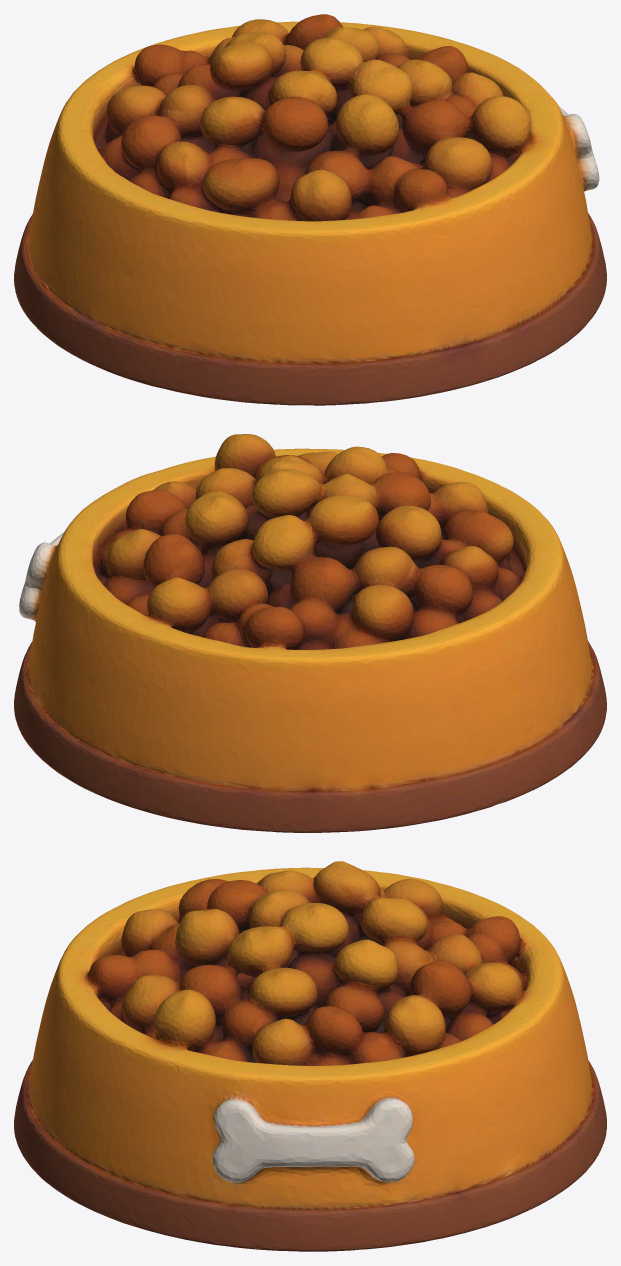
File: bowl_food_5.glb
3 views of the same model, one above another, from view 1: azimuth 30°, elevation 25°; view 2: azimuth 150°, elevation 25°; view 3: azimuth 270°, elevation 25° (orthographic).
Parts seen in each view (by area): view 1: tripo_node_acb6e2b7-431e-4384-a9d0-5594e0763c36; view 2: tripo_node_acb6e2b7-431e-4384-a9d0-5594e0763c36; view 3: tripo_node_acb6e2b7-431e-4384-a9d0-5594e0763c36.
Boxes of the visible parts, left/top/right/bottom form: tripo_node_acb6e2b7-431e-4384-a9d0-5594e0763c36: left=14, top=14, right=606, bottom=405; tripo_node_acb6e2b7-431e-4384-a9d0-5594e0763c36: left=14, top=434, right=606, bottom=832; tripo_node_acb6e2b7-431e-4384-a9d0-5594e0763c36: left=14, top=861, right=606, bottom=1251.
Size of the model in its own units: 0.9999 by 0.4345 by 0.9997.
Materials: 1 (1 with a texture image).
